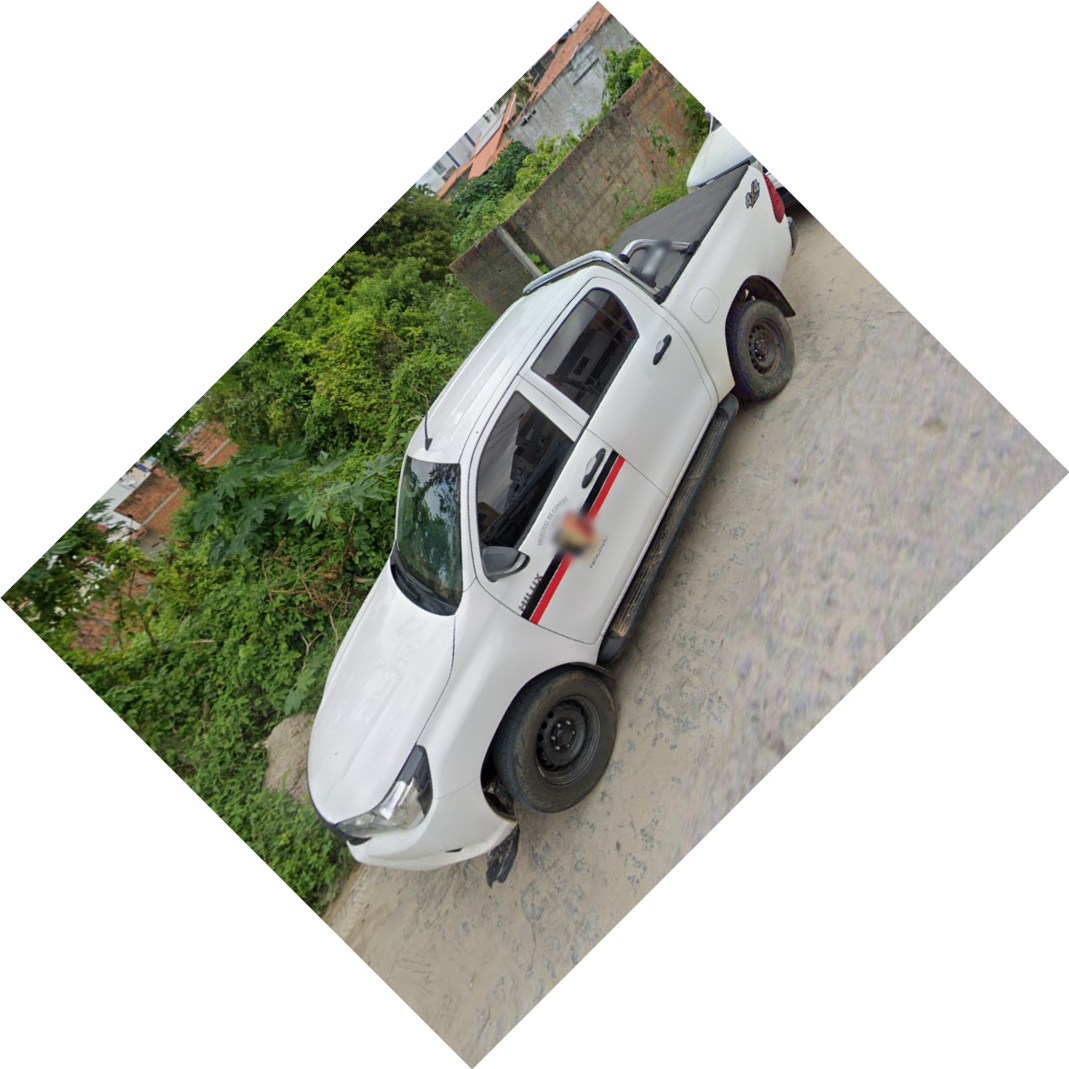car: (303, 160, 800, 873)
